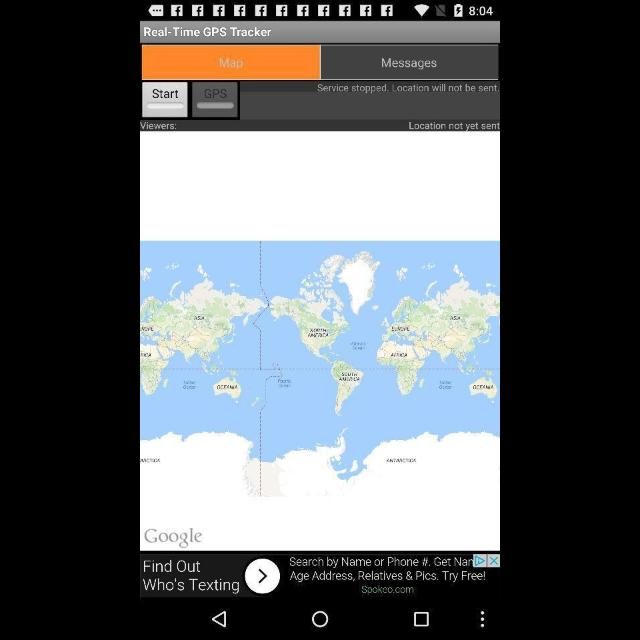icon: (312, 610, 328, 628), (212, 612, 228, 628), (414, 611, 430, 627), (479, 609, 487, 629)
iframe: (141, 553, 499, 597)
map: (140, 242, 500, 552)
multitab: (140, 44, 500, 80)
panel: (142, 598, 500, 638), (142, 22, 500, 44)
text: (315, 82, 499, 96), (141, 23, 273, 39), (406, 122, 498, 130), (140, 118, 178, 132), (152, 89, 182, 98), (205, 88, 228, 99)
textbutton: (189, 80, 239, 118), (141, 82, 189, 118)
uppertaskbar: (145, 2, 500, 22)
